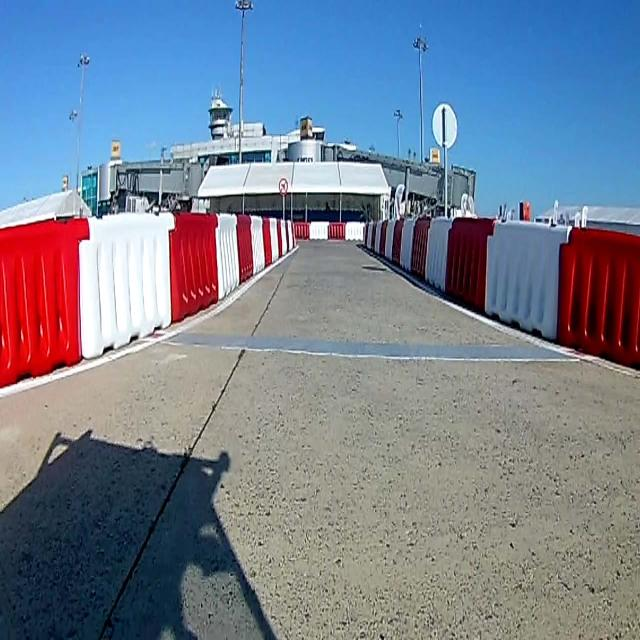soladonulmez: (278, 177, 288, 195)
